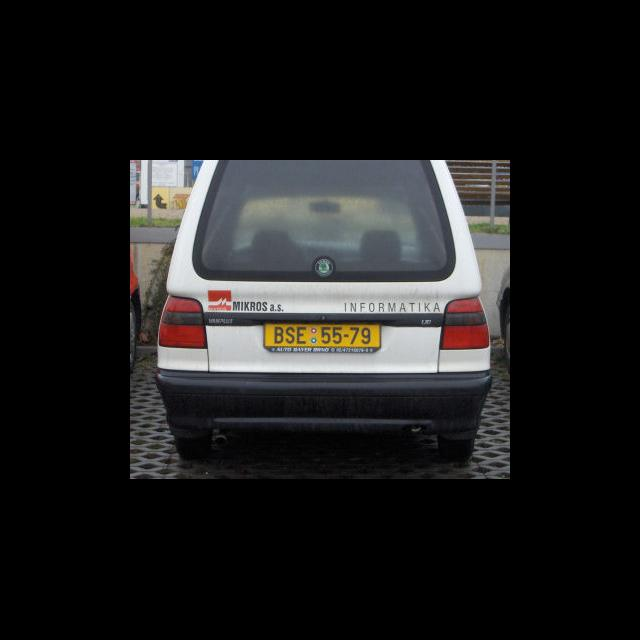Plate: (262, 322, 381, 352)
